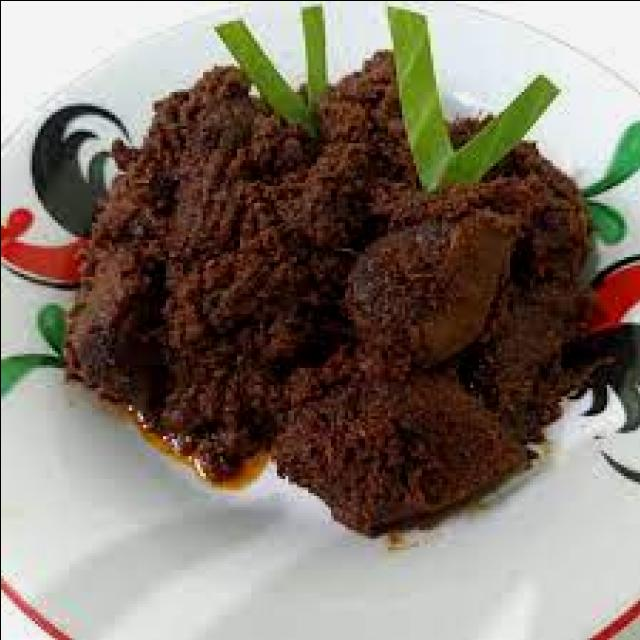rendang: (60, 51, 631, 535)
